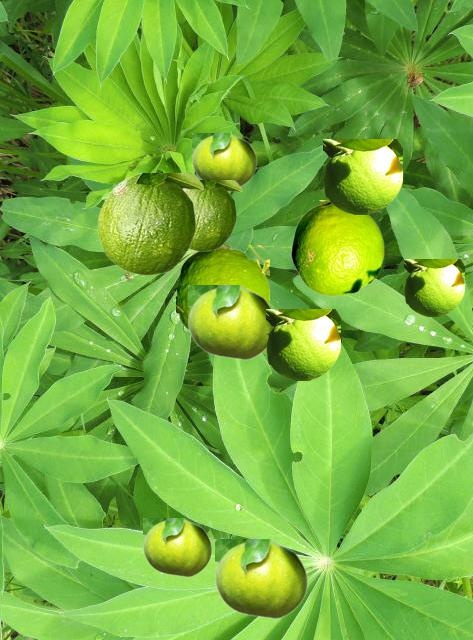dalandan: (97, 173, 203, 274), (291, 200, 383, 295), (176, 245, 268, 329), (215, 539, 307, 618), (188, 285, 272, 359), (323, 139, 401, 213), (266, 309, 339, 379), (143, 518, 211, 576), (185, 180, 241, 250), (192, 133, 256, 186), (404, 259, 463, 315)
